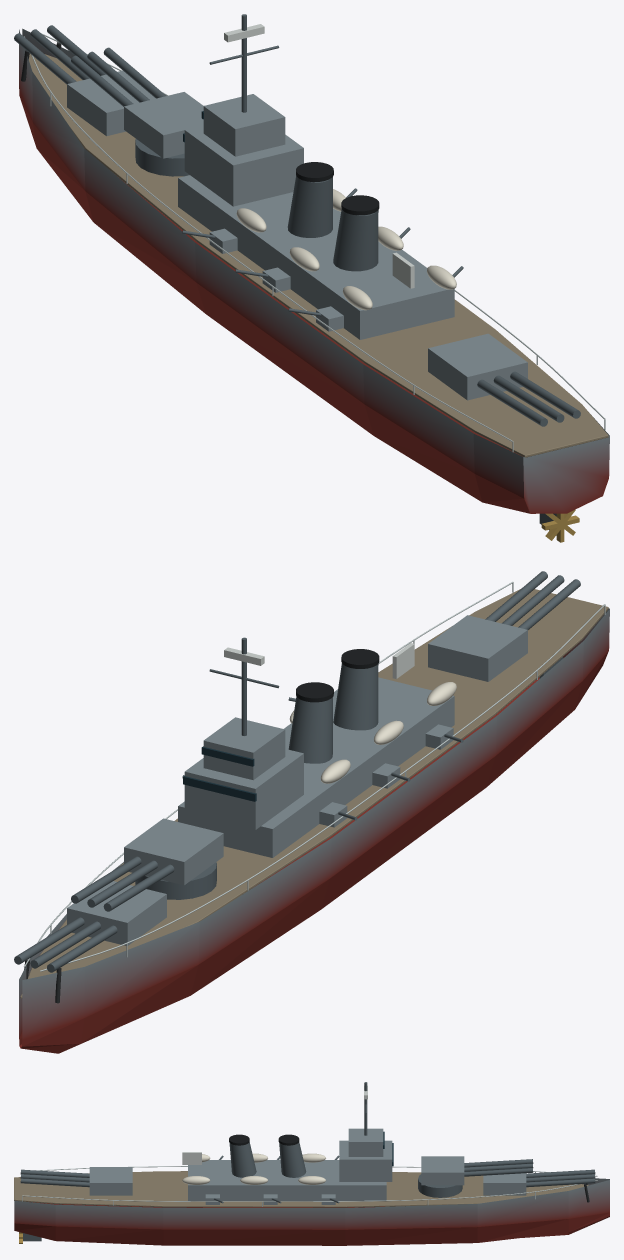
The model's file is battleship.glb.
3 views of the same model, one above another, from view 1: azimuth 30°, elevation 25°; view 2: azimuth 150°, elevation 25°; view 3: azimuth 270°, elevation 25° (orthographic). The views are drawn at different scales.
Visible parts, largest first — view 1: WarHull, CitadelAssembly, WarDeck, WarMastAssembly, FunnelAssembly, WarBoatAssembly, WarRailAssembly, FunnelCapAssembly, MastRadarAssembly, ScrewBladeAssembly; view 2: WarHull, CitadelAssembly, WarDeck, WarMastAssembly, FunnelAssembly, WarRailAssembly, WarBoatAssembly, FunnelCapAssembly, BridgeWindowAssembly, MastRadarAssembly; view 3: WarHull, CitadelAssembly, WarDeck, WarMastAssembly, FunnelAssembly, WarBoatAssembly, WarRailAssembly, FunnelCapAssembly, MastRadarAssembly.
Boxes of the visible parts, x1,y1,x2,y2 form: WarHull: (19, 28, 609, 513); CitadelAssembly: (67, 70, 527, 400); WarDeck: (29, 53, 608, 457); WarMastAssembly: (14, 14, 580, 426); FunnelAssembly: (135, 139, 556, 535); WarBoatAssembly: (236, 189, 456, 310); WarRailAssembly: (24, 33, 605, 452); FunnelCapAssembly: (296, 162, 379, 215); MastRadarAssembly: (224, 24, 414, 288); ScrewBladeAssembly: (541, 509, 579, 542); WarHull: (19, 608, 609, 1053); CitadelAssembly: (67, 615, 527, 945); WarDeck: (20, 589, 608, 998); WarMastAssembly: (14, 571, 580, 972); FunnelAssembly: (135, 657, 563, 899); WarRailAssembly: (24, 581, 605, 971); WarBoatAssembly: (289, 682, 456, 783); FunnelCapAssembly: (296, 649, 379, 702); BridgeWindowAssembly: (183, 746, 256, 801); MastRadarAssembly: (224, 643, 414, 678); WarHull: (14, 1178, 609, 1245); CitadelAssembly: (89, 1128, 526, 1204); WarDeck: (14, 1171, 588, 1207); WarMastAssembly: (20, 1082, 595, 1203); FunnelAssembly: (23, 1142, 462, 1241); WarBoatAssembly: (182, 1153, 325, 1184); WarRailAssembly: (22, 1166, 597, 1206); FunnelCapAssembly: (229, 1134, 299, 1145); MastRadarAssembly: (182, 1085, 367, 1164).
Size of the model in its own units: 13.31 by 21.4 by 72.04.
